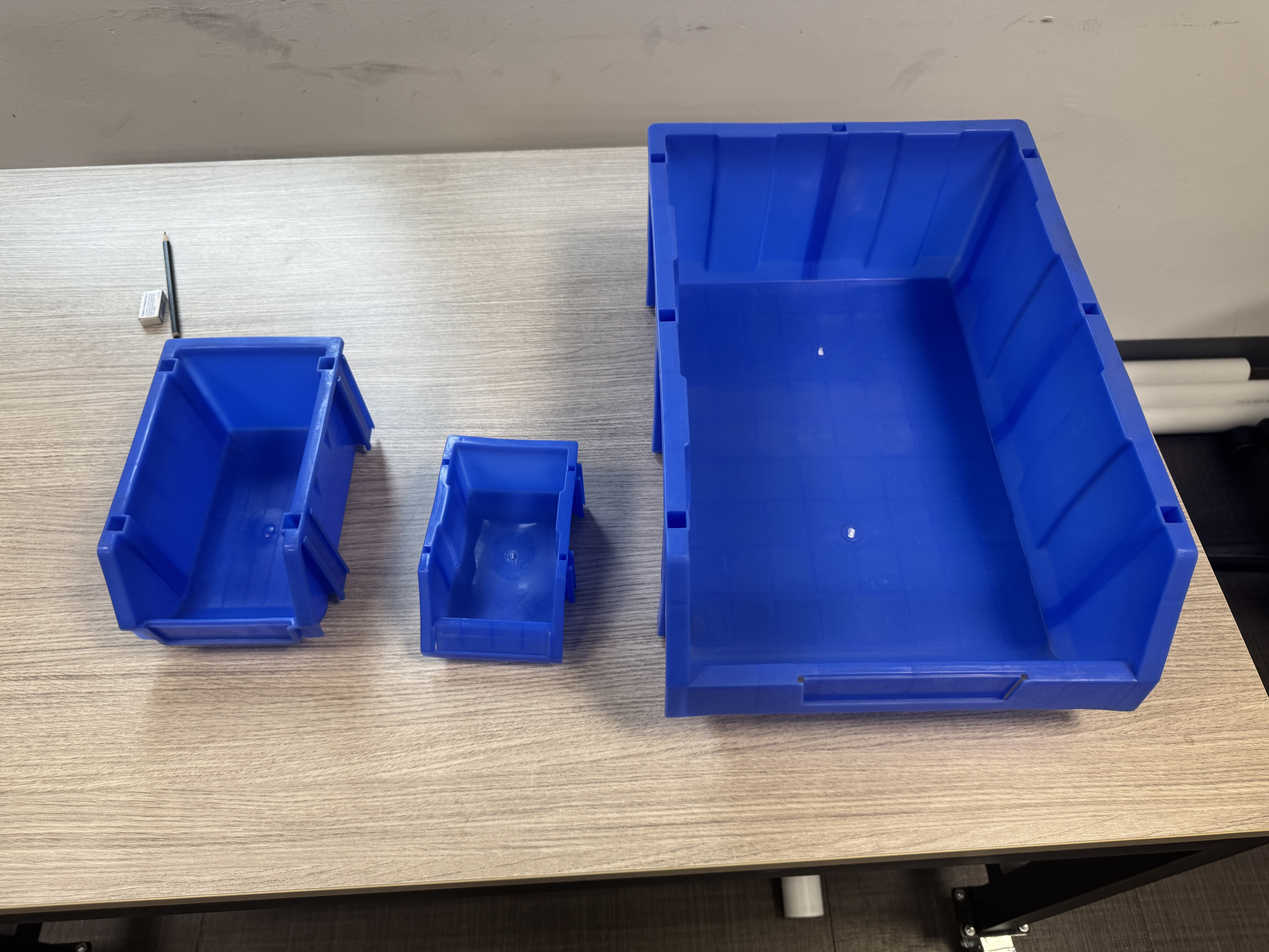Bin Boundary: (666, 113, 1182, 683), (110, 343, 324, 627), (427, 446, 564, 621)
